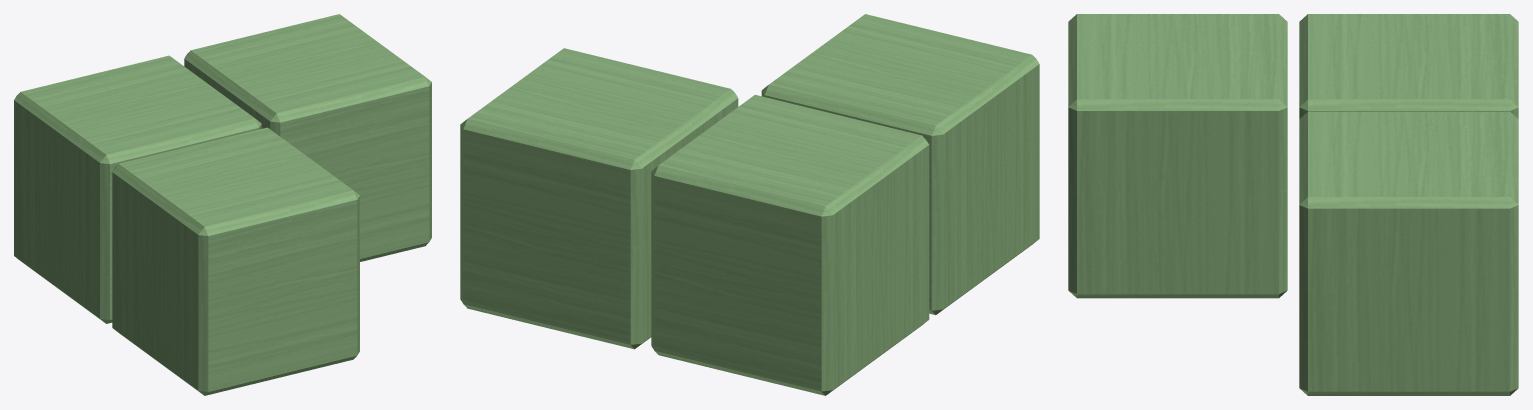
Rendered from piece_V.glb.
3 views of the same model, side by side, from view 1: azimuth 30°, elevation 25°; view 2: azimuth 150°, elevation 25°; view 3: azimuth 270°, elevation 25° (orthographic). The views are drawn at different scales.
Parts seen in each view (by area): view 1: piece_V; view 2: piece_V; view 3: piece_V.
Boxes of the visible parts, box(x1,y1,x2,y2) form: piece_V: box(14, 14, 431, 395); piece_V: box(460, 14, 1039, 395); piece_V: box(1068, 14, 1518, 395).
Bounding box in the file's own units: 0.078 × 0.038 × 0.078.
Materials: 1 (1 with a texture image).
